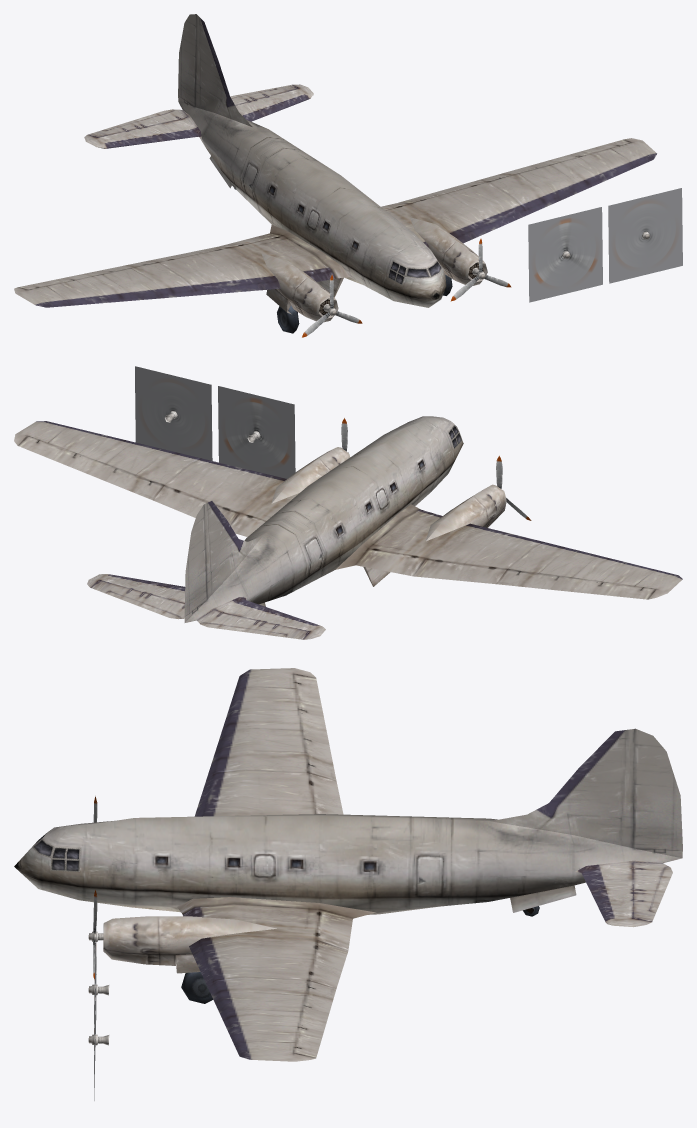
The model's file is Curtiss_C46.fbx.
3 views of the same model, one above another, from view 1: azimuth 30°, elevation 25°; view 2: azimuth 150°, elevation 25°; view 3: azimuth 270°, elevation 25° (orthographic). The views are drawn at different scales.
Parts seen in each view (by area): view 1: Curtiss_Fuselage, Propellor_SLow, Propellor_Fast2, Propellor_Stop, Propellor_Stop1; view 2: Curtiss_Fuselage, Propellor_Fast2, Propellor_SLow; view 3: Curtiss_Fuselage, DoorRearWheel1, Wheel.
Part boxes in pixels (x1,y1,x2,y2): Curtiss_Fuselage: (14,14,656,322); Propellor_SLow: (528,207,602,302); Propellor_Fast2: (608,188,682,283); Propellor_Stop: (450,238,511,301); Propellor_Stop1: (302,274,362,337); Curtiss_Fuselage: (14,416,682,639); Propellor_Fast2: (135,366,212,460); Propellor_SLow: (218,386,295,478); Curtiss_Fuselage: (14,668,682,1061); DoorRearWheel1: (510,885,576,912); Wheel: (181,954,212,1003).
Size of the model in its own units: 39.2 by 10.56 by 28.15.
4 materials, 4 textured.
